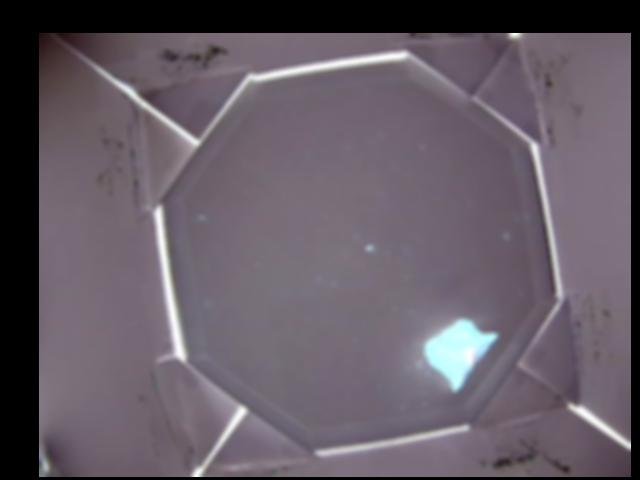Brisk: (425, 317, 496, 392)
